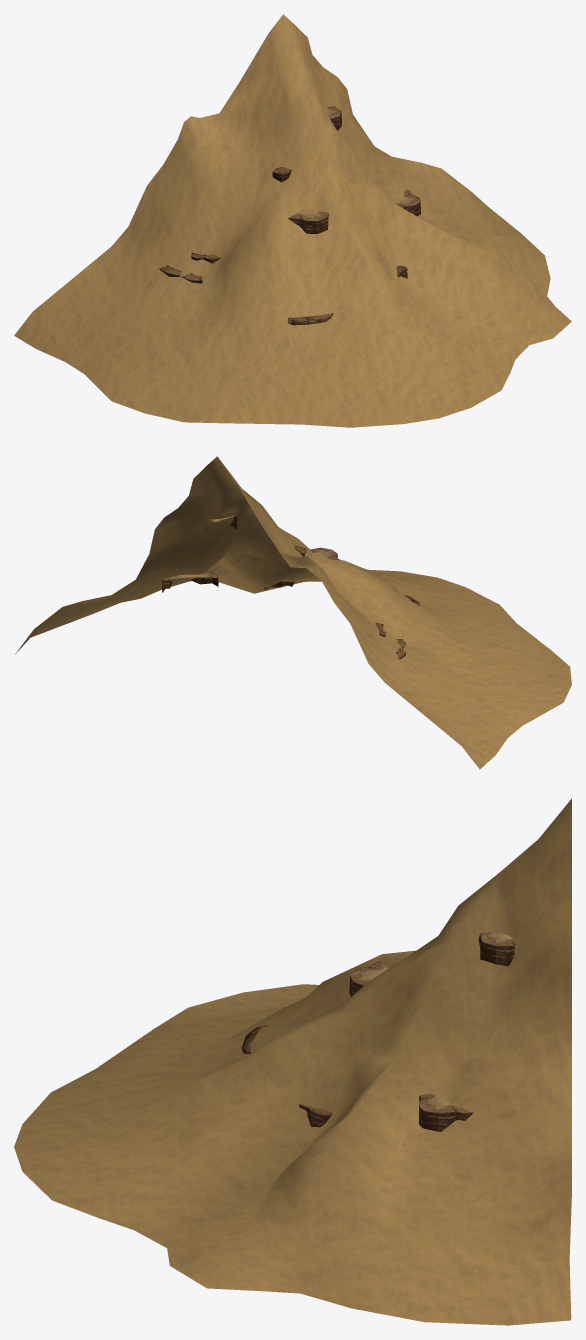
The model's file is nashgar_construct_sand_large01_01.FBX.
The picture shows the model from 3 angles, top to bottom: view 1: azimuth 30°, elevation 25°; view 2: azimuth 150°, elevation 25°; view 3: azimuth 270°, elevation 25°; orthographic projection. The views are drawn at different scales.
Parts seen in each view (by area): view 1: nashgar_construct_sand_large01_01; view 2: nashgar_construct_sand_large01_01; view 3: nashgar_construct_sand_large01_01.
Part boxes in pixels (<box>): nashgar_construct_sand_large01_01: <box>14,14,571,427</box>; nashgar_construct_sand_large01_01: <box>15,456,571,769</box>; nashgar_construct_sand_large01_01: <box>14,798,571,1325</box>.
Size of the model in its own units: 39.84 by 20.09 by 27.18.
